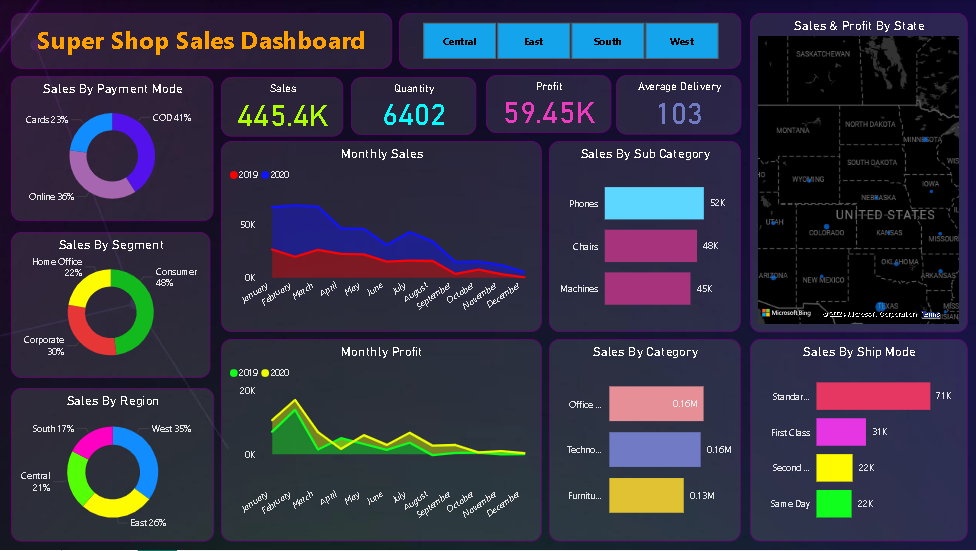

The page's visual inventory and layout, read from the dashboard file:
{"tool":"powerbi","page":{"name":"Page 1","canvas":[1280,720],"ordinal":0},"visuals":[{"type":"stackedAreaChart","title":"Monthly Sales","fields":{"Y":["Sum(SuperStore_Sales_Dataset.Sales)"],"Category":["SuperStore_Sales_Dataset.Order Date.Variation.Date Hierarchy.Month","SuperStore_Sales_Dataset.Order Date.Variation.Date Hierarchy.Day"],"Series":["SuperStore_Sales_Dataset.Order Date.Variation.Date Hierarchy.Year"]},"box":[288.8,185,420,250],"z":0},{"type":"barChart","title":"Sales By Category","fields":{"Category":["SuperStore_Sales_Dataset.Category"],"Y":["Sum(SuperStore_Sales_Dataset.Sales)"]},"box":[718.8,443.8,251.2,265],"z":1000},{"type":"barChart","title":"Sales By Sub Category","fields":{"Category":["SuperStore_Sales_Dataset.Sub-Category","SuperStore_Sales_Dataset.Ship Mode"],"Y":["Sum(SuperStore_Sales_Dataset.Sales)"]},"box":[718.8,185,251.2,250],"z":2000},{"type":"barChart","title":"Sales By Ship Mode","fields":{"Category":["SuperStore_Sales_Dataset.Ship Mode"],"Y":["Sum(SuperStore_Sales_Dataset.Sales)"]},"box":[981.2,443.8,285,265],"z":3000},{"type":"stackedAreaChart","title":"Monthly Profit","fields":{"Category":["SuperStore_Sales_Dataset.Order Date.Variation.Date Hierarchy.Month","SuperStore_Sales_Dataset.Order Date.Variation.Date Hierarchy.Day"],"Series":["SuperStore_Sales_Dataset.Order Date.Variation.Date Hierarchy.Year"],"Y":["Sum(SuperStore_Sales_Dataset.Profit)"]},"box":[288.8,443.8,420,265],"z":4000},{"type":"donutChart","title":"Sales By Segment","fields":{"Category":["SuperStore_Sales_Dataset.Segment"],"Y":["Sum(SuperStore_Sales_Dataset.Sales)"]},"box":[15,303.8,261.2,191.2],"z":5000},{"type":"donutChart","title":"Sales By Region","fields":{"Category":["SuperStore_Sales_Dataset.Region"],"Y":["Sum(SuperStore_Sales_Dataset.Sales)"]},"box":[13.8,507.5,266.2,201.2],"z":6000},{"type":"donutChart","title":"Sales By Payment Mode","fields":{"Category":["SuperStore_Sales_Dataset.Payment Mode"],"Y":["Sum(SuperStore_Sales_Dataset.Sales)"]},"box":[15,100,265,190],"z":7000},{"type":"slicer","fields":{"Values":["SuperStore_Sales_Dataset.Region"]},"box":[522.5,17.5,447.5,72.5],"z":8000},{"type":"textbox","box":[13.8,17.5,498.8,72.5],"z":9000},{"type":"card","title":"Sales","fields":{"Values":["Sum(SuperStore_Sales_Dataset.Sales)"]},"box":[288.8,101.2,160,77.5],"z":10000},{"type":"card","title":"Quantity","fields":{"Values":["Sum(SuperStore_Sales_Dataset.Quantity)"]},"box":[460,101.2,163.8,76.2],"z":11000},{"type":"card","title":"Profit","fields":{"Values":["Sum(SuperStore_Sales_Dataset.Profit)"]},"box":[636.2,98.8,163.8,76.2],"z":12000},{"type":"card","title":"Average Delivery","fields":{"Values":["Avg(SuperStore_Sales_Dataset.AvgDelivery)"]},"box":[806.2,98.8,163.8,77.5],"z":13000},{"type":"map","title":"Sales & Profit By State","fields":{"Category":["SuperStore_Sales_Dataset.State"],"Size":["Sum(SuperStore_Sales_Dataset.Sales)"]},"box":[981.2,17.5,285,417.5],"z":14000}]}

Visuals, with their boxes in screenshot pixels (x1, y1, x2, y2), scaled from the page's 1280x720 canvas onto the 976x551 screenshot:
"Monthly Sales" stackedAreaChart: <bbox>220, 142, 540, 333</bbox>
"Sales By Category" barChart: <bbox>548, 340, 740, 542</bbox>
"Sales By Sub Category" barChart: <bbox>548, 142, 740, 333</bbox>
"Sales By Ship Mode" barChart: <bbox>748, 340, 965, 542</bbox>
"Monthly Profit" stackedAreaChart: <bbox>220, 340, 540, 542</bbox>
"Sales By Segment" donutChart: <bbox>11, 232, 211, 379</bbox>
"Sales By Region" donutChart: <bbox>11, 388, 214, 542</bbox>
"Sales By Payment Mode" donutChart: <bbox>11, 77, 214, 222</bbox>
slicer - SuperStore_Sales_Dataset.Region: <bbox>398, 13, 740, 69</bbox>
textbox: <bbox>11, 13, 391, 69</bbox>
"Sales" card: <bbox>220, 77, 342, 137</bbox>
"Quantity" card: <bbox>351, 77, 476, 136</bbox>
"Profit" card: <bbox>485, 76, 610, 134</bbox>
"Average Delivery" card: <bbox>615, 76, 740, 135</bbox>
"Sales & Profit By State" map: <bbox>748, 13, 965, 333</bbox>
